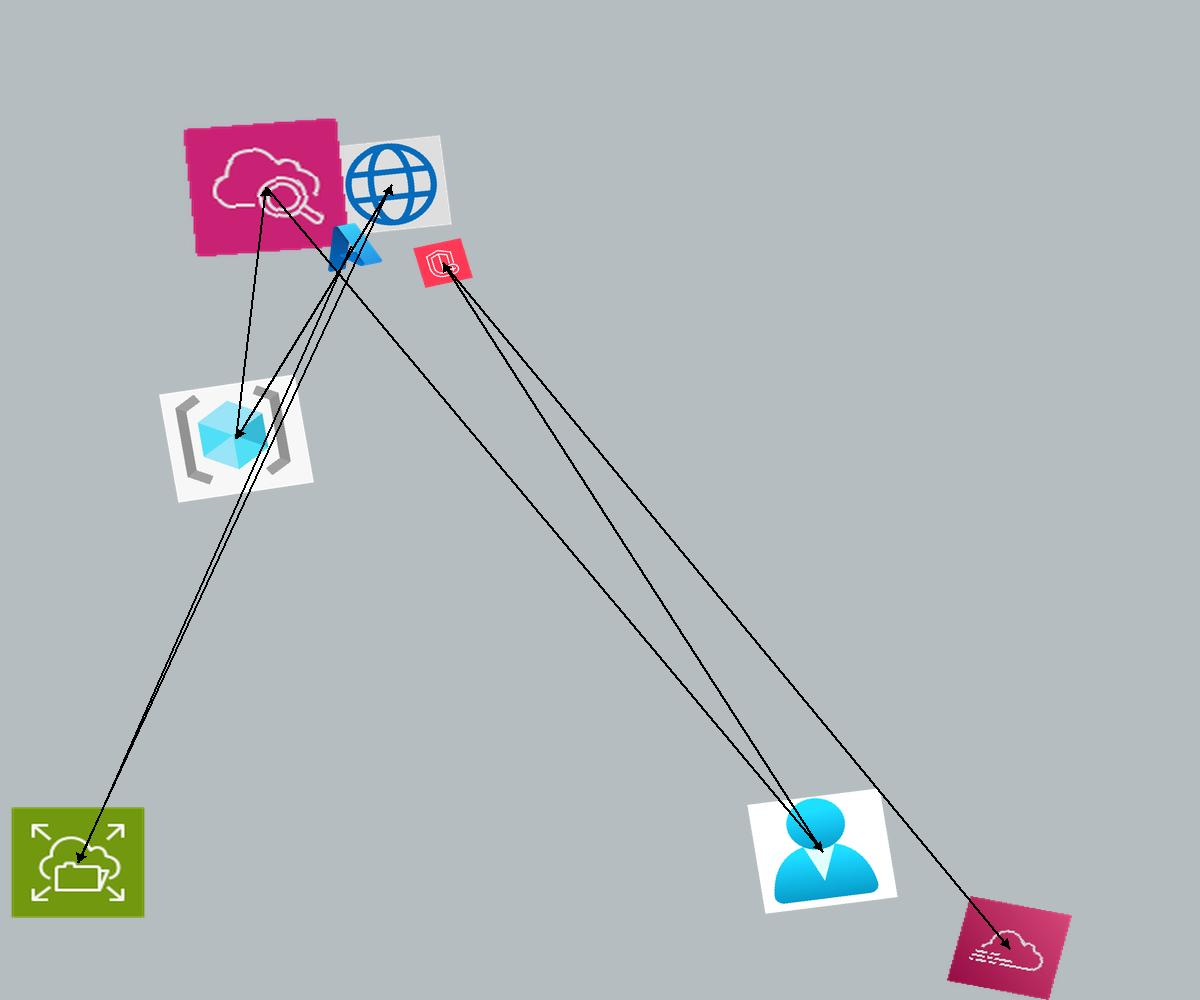AWS-CloudTrail: (947, 896, 1072, 1000)
AWS-CloudWatch: (182, 117, 351, 258)
AWS-EFS: (10, 806, 146, 919)
AWS-Shield: (413, 238, 473, 288)
Azure_http: (331, 135, 452, 236)
Azure_resource_group: (159, 374, 314, 503)
Azure_services: (314, 216, 386, 276)
Azure_users: (747, 788, 898, 914)
